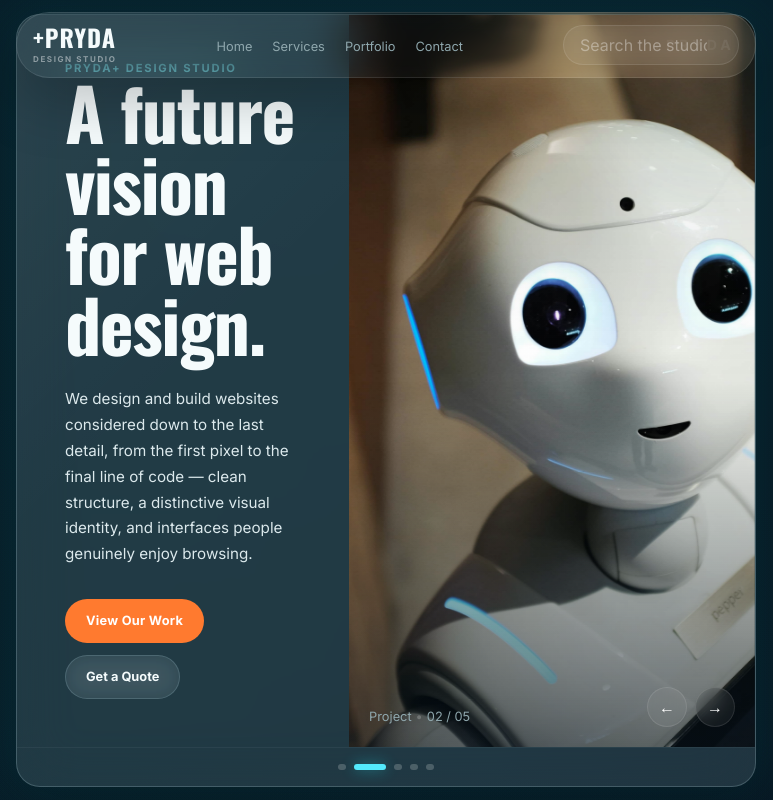
Test: hero carousel › auto-plays every 5 seconds and pauses on hover
The image size is (773, 800).
(page scrolled)
Expected: the text "Project•02 / 05" is shown, [369,709,470,724]
# hovering the carousel pauses the auto-play
Step 1. Hover over the element named "Featured work" → (386, 400), box [17,15,755,786]
Expected: the text "Project•02 / 05" is shown, [369,709,470,724]
# leaving resumes it
Step 2. Move the pointer off the element named "Featured work"
Wait 5000 ms
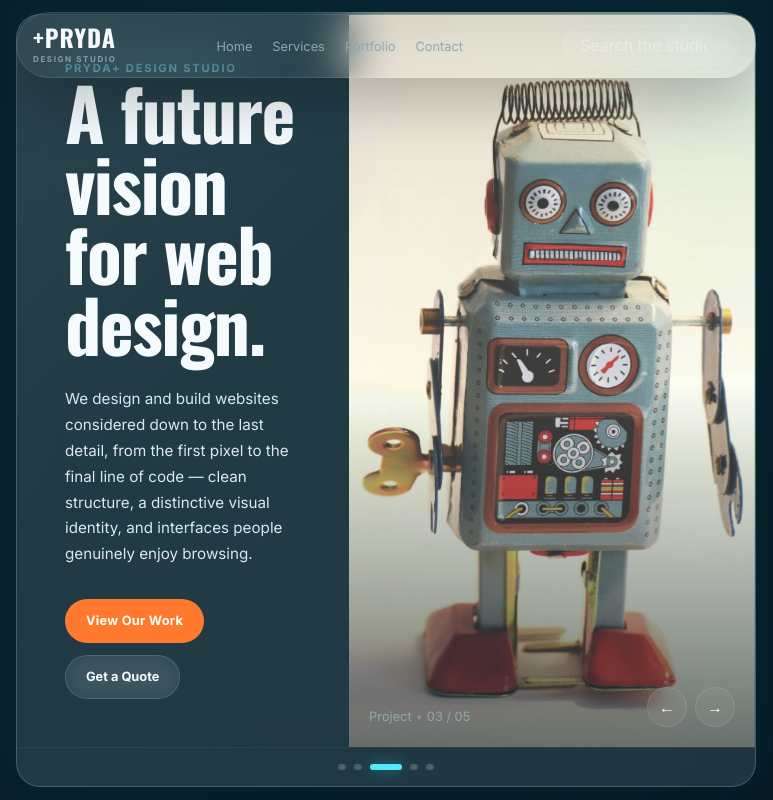
Expected: the text "Project•03 / 05" is shown, [369,709,470,724]
